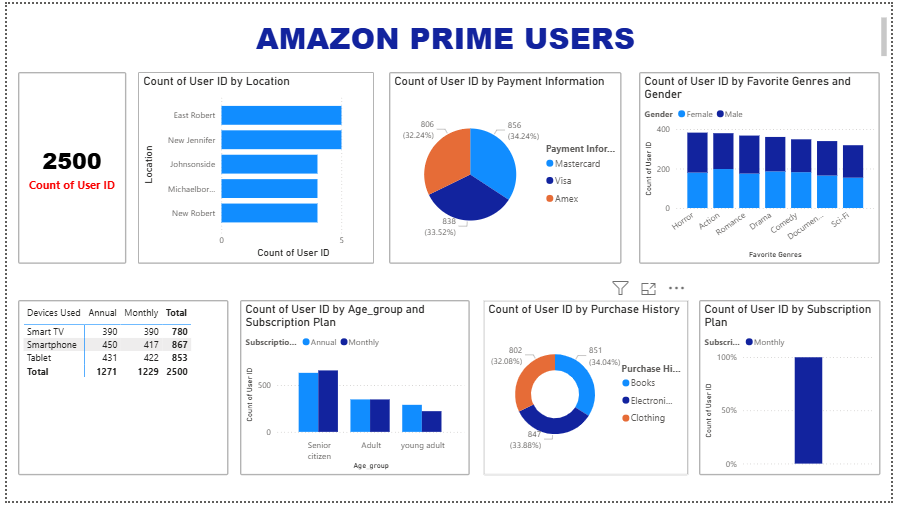

What the dashboard file says about the page in this screenshot:
{"tool":"powerbi","page":{"name":"Page 1","canvas":[1280,720],"ordinal":0},"visuals":[{"type":"barChart","fields":{"Y":["CountNonNull(amazon_prime_users.User ID)"],"Category":["amazon_prime_users.Location"]},"box":[189.2,98.8,341.6,278.1],"z":0},{"type":"card","fields":{"Values":["CountNonNull(amazon_prime_users.User ID)"]},"box":[15.5,98.8,156.7,278.1],"z":1000},{"type":"pieChart","fields":{"Category":["amazon_prime_users.Payment Information"],"Y":["CountNonNull(amazon_prime_users.User ID)"]},"box":[553.4,98.8,337.4,278.1],"z":2000},{"type":"columnChart","fields":{"Y":["CountNonNull(amazon_prime_users.User ID)"],"Category":["amazon_prime_users.Favorite Genres"],"Series":["amazon_prime_users.Gender"]},"box":[916.2,98.8,348.7,278.1],"z":3000},{"type":"pivotTable","fields":{"Values":["CountNonNull(amazon_prime_users.User ID)"],"Rows":["amazon_prime_users.Devices Used"],"Columns":["amazon_prime_users.Subscription Plan"]},"box":[15.5,429.2,304.9,254.1],"z":4000},{"type":"clusteredColumnChart","fields":{"Y":["CountNonNull(amazon_prime_users.User ID)"],"Category":["amazon_prime_users.Age_group"],"Series":["amazon_prime_users.Subscription Plan"]},"box":[337.4,429.2,333.2,254.1],"z":5000},{"type":"donutChart","fields":{"Y":["CountNonNull(amazon_prime_users.User ID)"],"Category":["amazon_prime_users.Purchase History"]},"box":[690.4,429.2,297.9,254.1],"z":6000},{"type":"hundredPercentStackedColumnChart","fields":{"Y":["CountNonNull(amazon_prime_users.User ID)"],"Series":["amazon_prime_users.Subscription Plan"]},"box":[1002.4,429.2,262.6,254.1],"z":7000},{"type":"textbox","box":[0,14.1,1280.5,67.8],"z":8000}]}

Visuals, with their boxes in screenshot pixels (x1, y1, x2, y2), scaled from the page's 1280x720 canvas onto the 897x509 screenshot:
barChart - CountNonNull(amazon_prime_users.User ID) x amazon_prime_users.Location: 133,70,372,266
card - CountNonNull(amazon_prime_users.User ID): 11,70,121,266
pieChart - amazon_prime_users.Payment Information x CountNonNull(amazon_prime_users.User ID): 388,70,624,266
columnChart - CountNonNull(amazon_prime_users.User ID) x amazon_prime_users.Favorite Genres: 642,70,886,266
pivotTable - CountNonNull(amazon_prime_users.User ID) x amazon_prime_users.Devices Used: 11,303,225,483
clusteredColumnChart - CountNonNull(amazon_prime_users.User ID) x amazon_prime_users.Age_group: 236,303,470,483
donutChart - CountNonNull(amazon_prime_users.User ID) x amazon_prime_users.Purchase History: 484,303,693,483
hundredPercentStackedColumnChart - CountNonNull(amazon_prime_users.User ID) x amazon_prime_users.Subscription Plan: 702,303,886,483
textbox: 0,10,896,58
